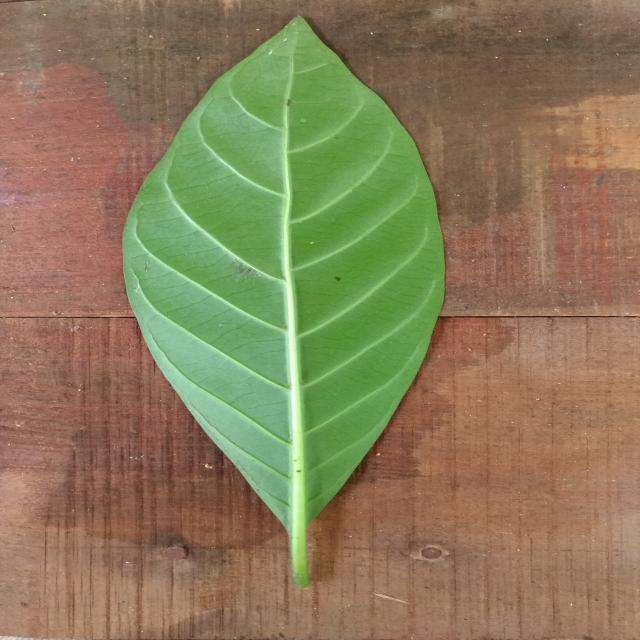nooni: (122, 16, 444, 588)
